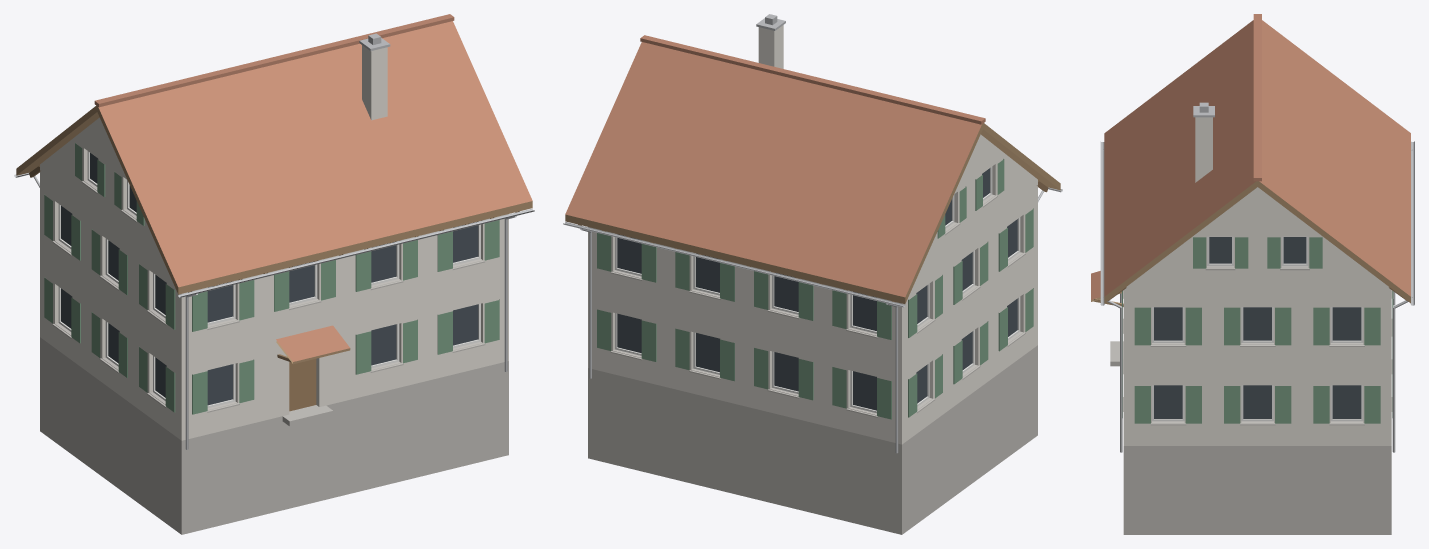
The model's file is house_gable_2_m.glb.
3 views of the same model, side by side, from view 1: azimuth 30°, elevation 25°; view 2: azimuth 150°, elevation 25°; view 3: azimuth 270°, elevation 25° (orthographic). The views are drawn at different scales.
Parts seen in each view (by area): view 1: house_gable_2_m; view 2: house_gable_2_m; view 3: house_gable_2_m.
Boxes of the visible parts, <box> form: house_gable_2_m: <box>14,14,534,534</box>; house_gable_2_m: <box>563,14,1062,534</box>; house_gable_2_m: <box>1091,14,1414,534</box>.
Size of the model in its own units: 13.04 by 14.38 by 10.88.
